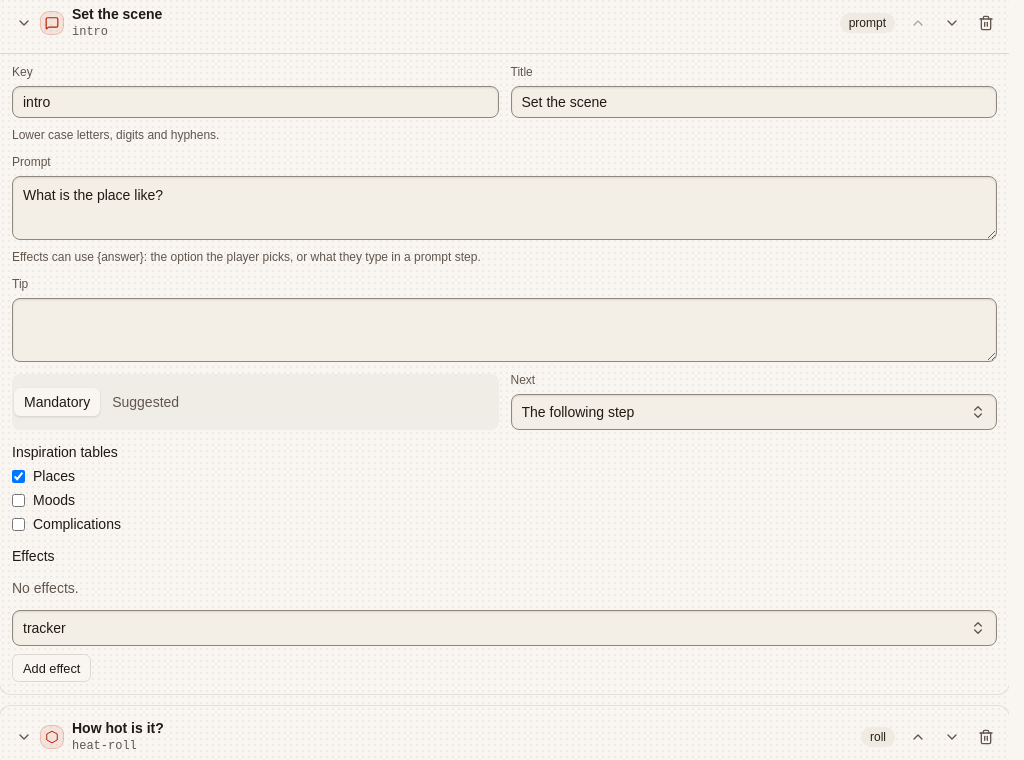
Test: the step list editor › a server error keyed by position › follows its step when steps move, and goes with it when the step is deleted
The width and height of the screenshot is (1024, 760).
Click the button named "Move step 2 down".
click(952, 737)  # box [937,722,967,752]
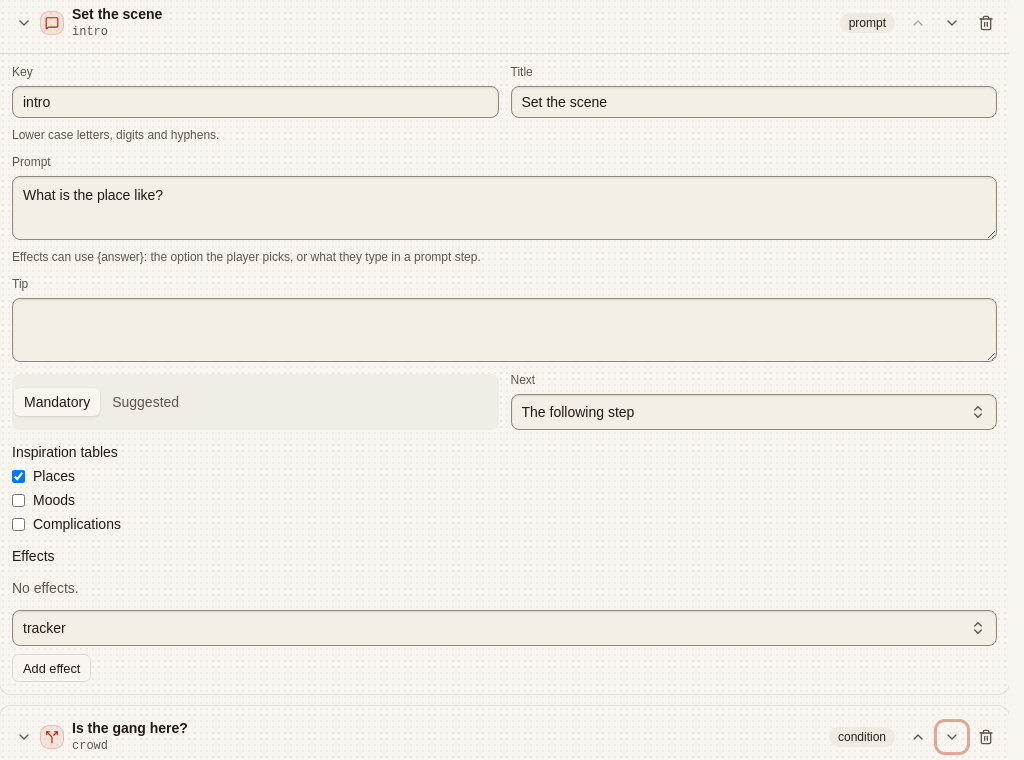
Check: the text "must not be blank" is not shown
Click the button named "Delete step 1".
click(986, 23)  # box [971,8,1001,38]
(page scrolled)
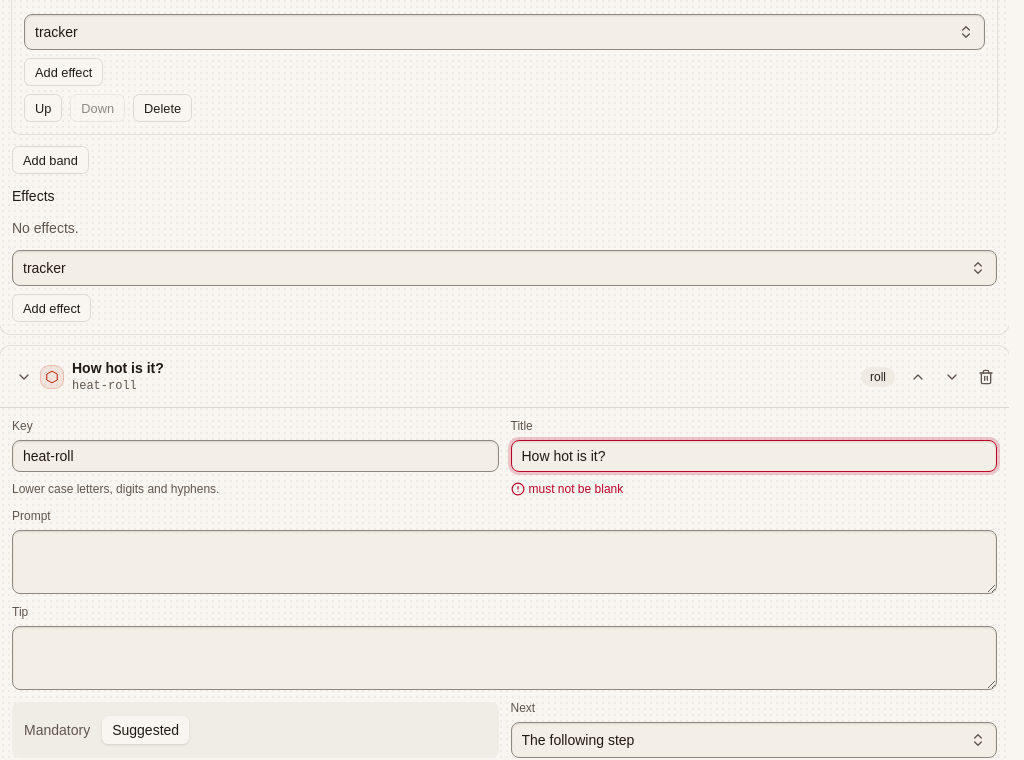
Check: the text "must not be blank" is shown, box [510,482,623,496]
Click the button named "Delete step 2".
click(986, 377)  # box [971,362,1001,392]
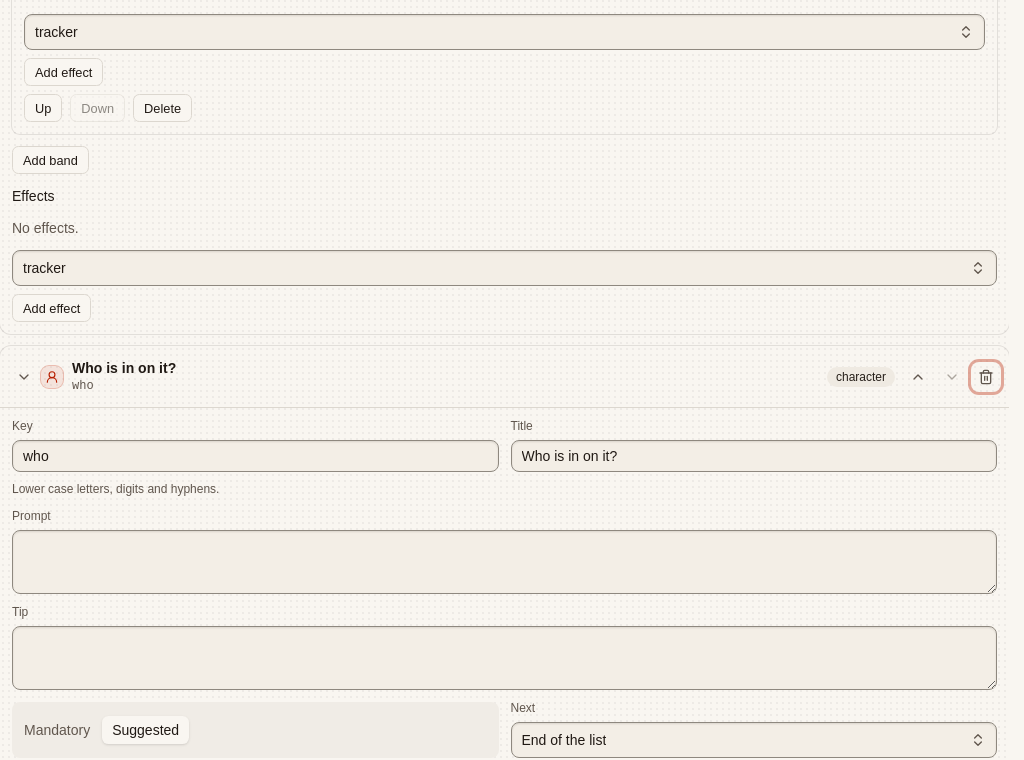
Check: the text "must not be blank" is gone
